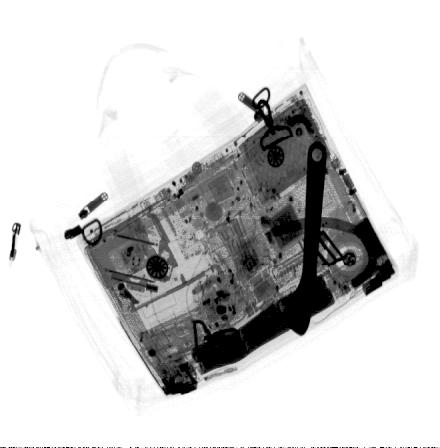Wrench: (282, 138, 332, 338)
